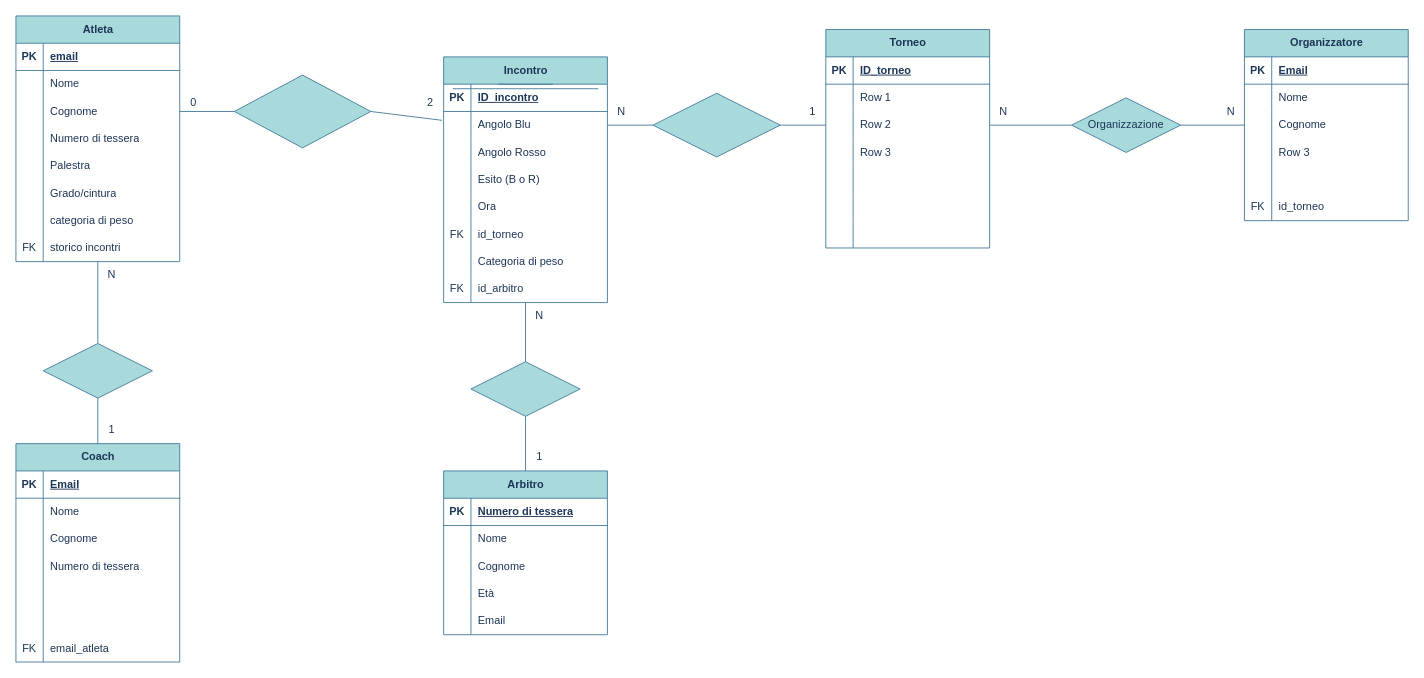
This 1424x678 diagram has some shape labels left out. The centre of each missing label's shape, as x and y in pixels:
Arbitraggio: (x=525, y=388)
Iscrizione: (x=97, y=370)
Partecipazione: (x=302, y=111)
Rientrare: (x=716, y=124)
